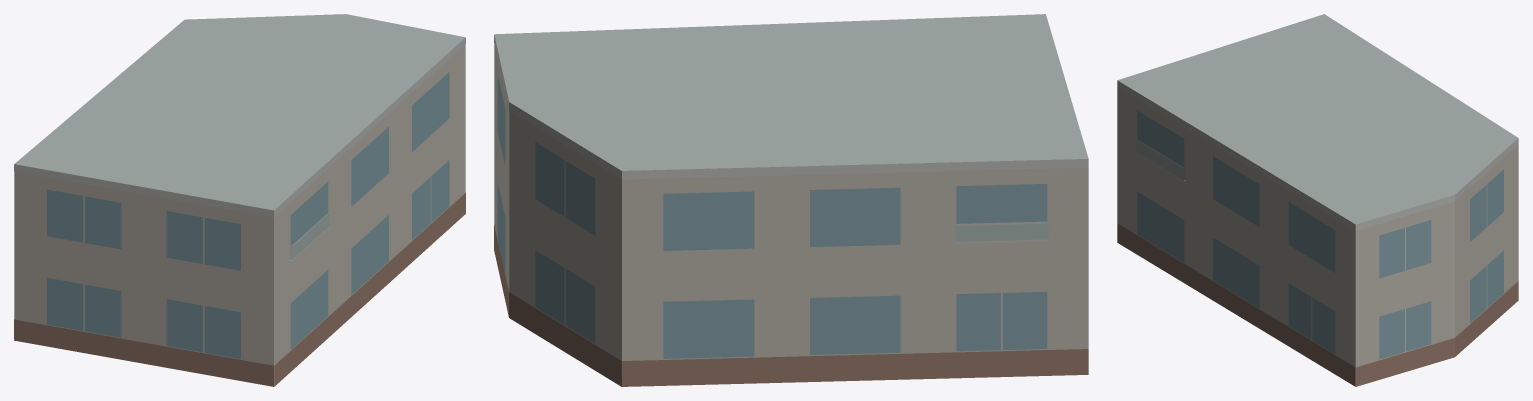
The model's file is survey-upis-32497504.glb.
3 views of the same model, side by side, from view 1: azimuth 30°, elevation 25°; view 2: azimuth 150°, elevation 25°; view 3: azimuth 270°, elevation 25° (orthographic). The views are drawn at different scales.
Parts seen in each view (by area): view 1: survey-upis-32497504.tmp; view 2: survey-upis-32497504.tmp; view 3: survey-upis-32497504.tmp.
Part boxes in pixels (x1,y1,x2,y2): survey-upis-32497504.tmp: (14,14,465,386); survey-upis-32497504.tmp: (494,14,1088,386); survey-upis-32497504.tmp: (1117,14,1518,386).
Bounding box in the file's own units: 16.97 × 6.1 × 13.67.
